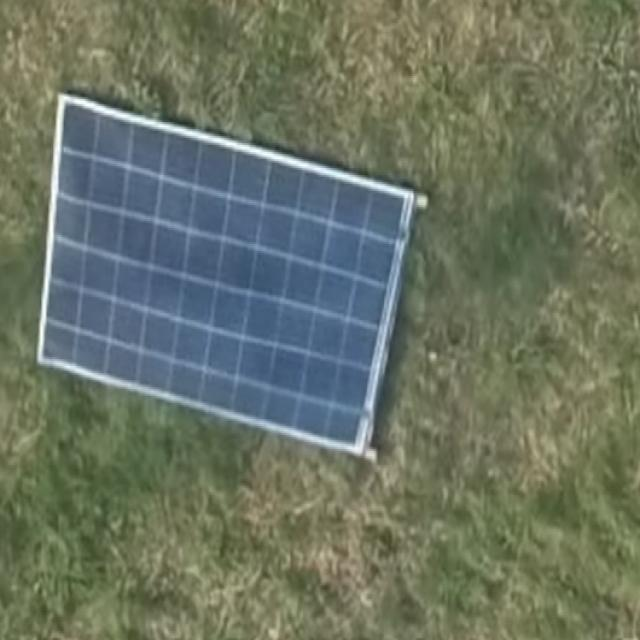no faulty: (44, 102, 410, 446)
